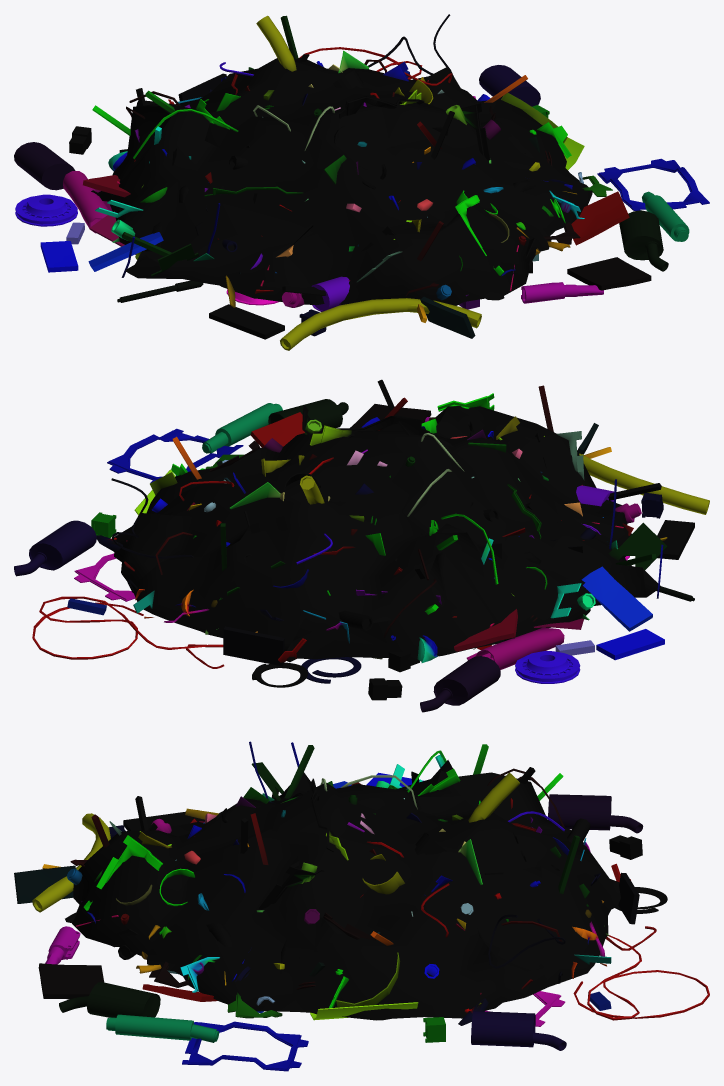
File: Scrap03.fbx
The picture shows the model from 3 angles, top to bottom: view 1: azimuth 30°, elevation 25°; view 2: azimuth 150°, elevation 25°; view 3: azimuth 270°, elevation 25°; orthographic projection. The views are drawn at different scales.
Visible parts, largest first — view 1: Scrap03_LOD0; view 2: Scrap03_LOD0; view 3: Scrap03_LOD0.
Boxes of the visible parts, x1,y1,x2,y2 form: Scrap03_LOD0: [14, 14, 709, 350]; Scrap03_LOD0: [14, 379, 709, 712]; Scrap03_LOD0: [14, 741, 709, 1071].
Size of what is drawn, in the model's own units: 557 by 129 by 555.
